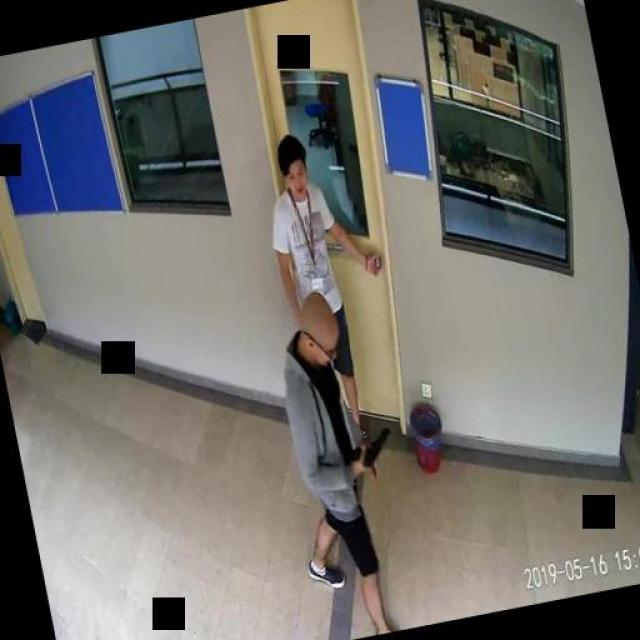gun: (346, 425, 395, 470)
